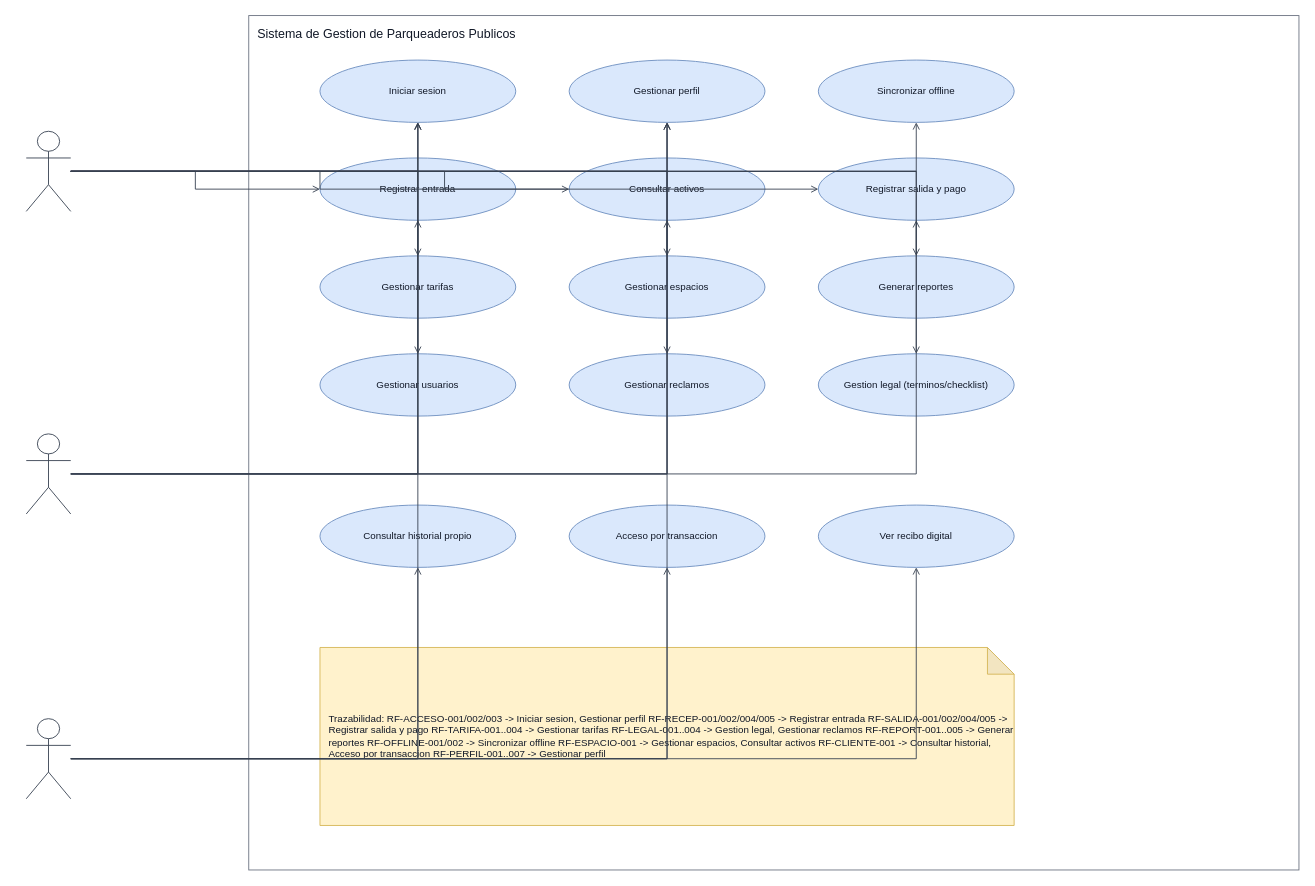
The diagram is 1315 pixels wide and 886 high, and some of its shapes have lost their labels. The centre of each missing label's shape, as x and y in pixels:
Administrador: the point at 48,170
Cliente: the point at 48,758
Operador: the point at 48,473
